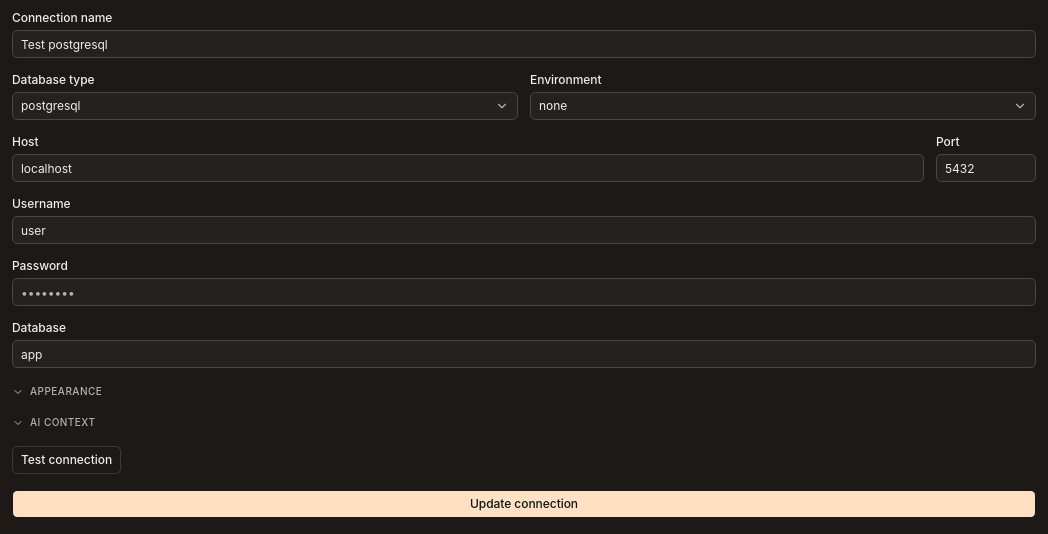
Test case: connectionForm test-connection flow › shows an error pill when the test resolves with success=false
Click the button "Test connection": (67, 460) [12, 446, 121, 474]
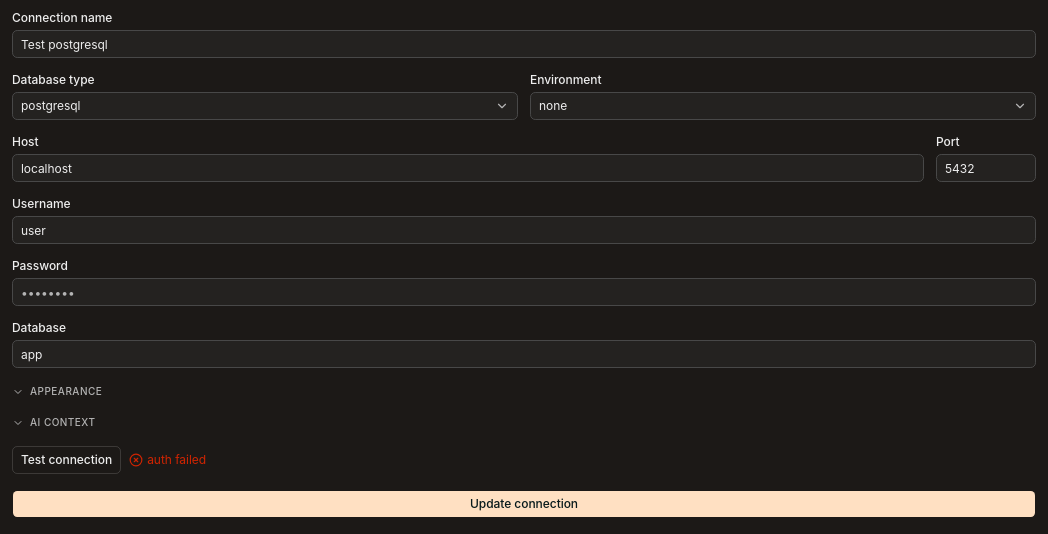
Now the text "auth failed" is shown, box [129, 452, 206, 468]
